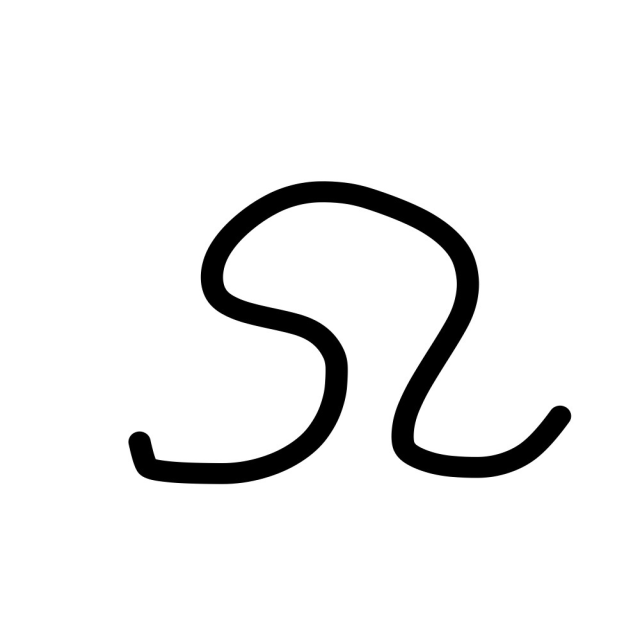ohms: (97, 156, 606, 575)
